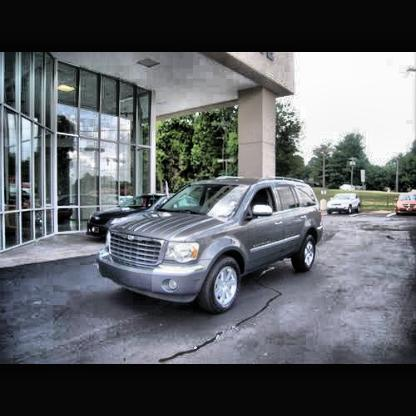Chrysler Aspen SUV 2009: (97, 176, 325, 317)
